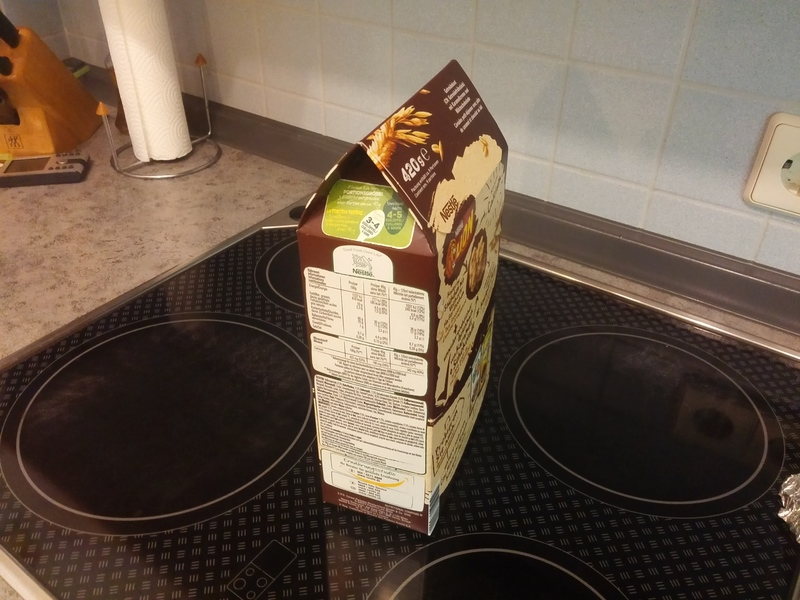cereals: (294, 57, 510, 538)
